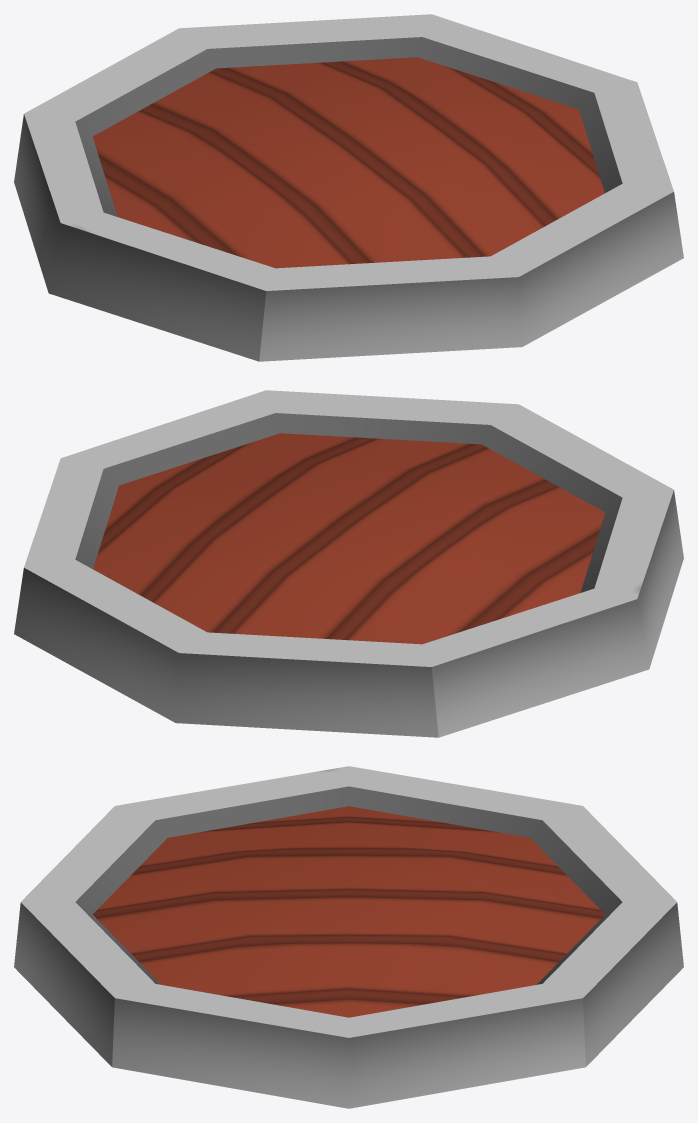
File: ShieldBasic.glb
3 views of the same model, one above another, from view 1: azimuth 30°, elevation 25°; view 2: azimuth 150°, elevation 25°; view 3: azimuth 270°, elevation 25° (orthographic). The views are drawn at different scales.
Visible parts, largest first — view 1: ShieldBasic; view 2: ShieldBasic; view 3: ShieldBasic.
Boxes of the visible parts, x1=… form: ShieldBasic: x1=14, y1=14, x2=683, y2=361; ShieldBasic: x1=14, y1=390, x2=683, y2=737; ShieldBasic: x1=14, y1=766, x2=683, y2=1108.
Bounding box in the file's own units: 0.6774 × 0.1401 × 0.6774.
Materials: 1 (1 with a texture image).
